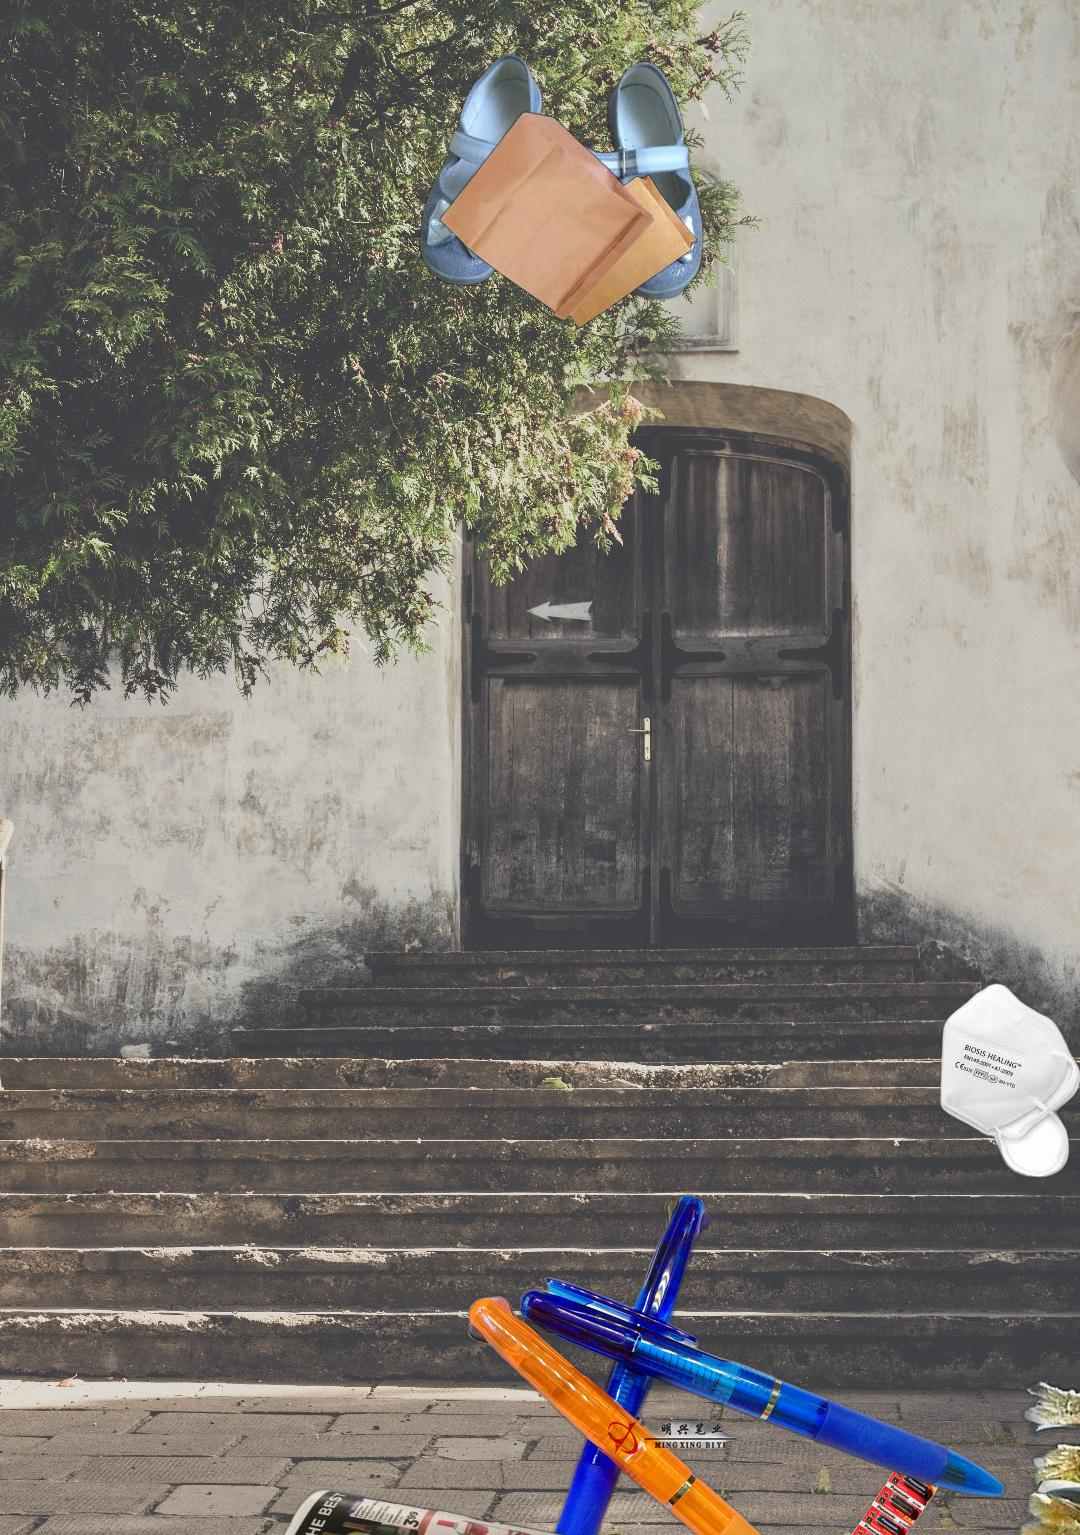battery: (835, 1433, 957, 1535), (1076, 491, 1080, 1416)
biological: (887, 1346, 1080, 1535)
paper: (264, 1486, 688, 1535)
paper-bag: (437, 110, 700, 331)
penholder: (461, 1189, 1012, 1535)
shoes: (416, 50, 707, 304)
trash: (937, 981, 1080, 1181)
